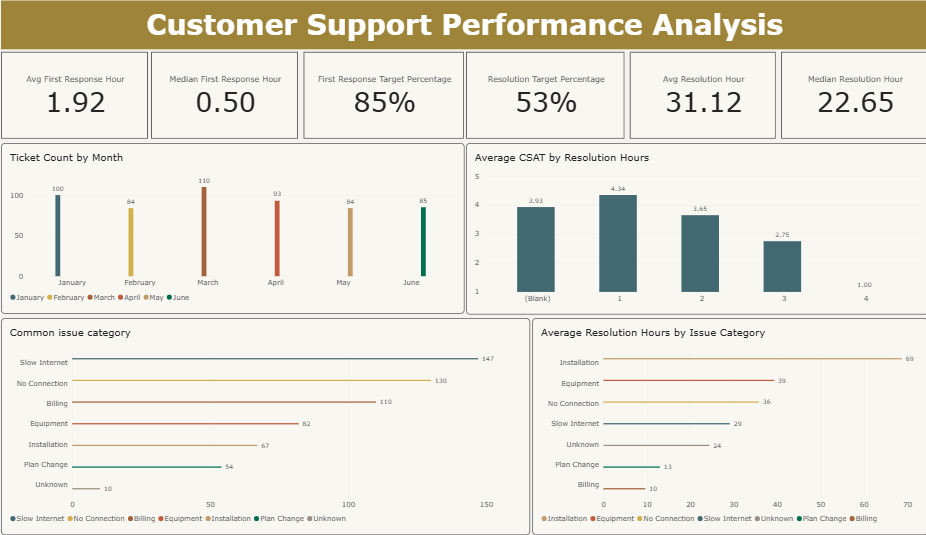

This screenshot's page, from the dashboard's own definition file:
{"tool":"powerbi","page":{"name":"Dashboard","canvas":[1920,1080],"ordinal":0},"visuals":[{"type":"textbox","box":[30,5,1855,97.5],"z":0},{"type":"clusteredColumnChart","title":"Ticket Count by Month","fields":{"Category":["linkup_support_tickets_raw.created_date.Variation.Date Hierarchy.Month","Tickets.region"],"Series":["linkup_support_tickets_raw.created_date.Variation.Date Hierarchy.Month"],"Y":["CountNonNull(linkup_support_tickets_raw.ticket_id)"]},"box":[30,291,927.1,341.4],"z":0,"group":"g1"},{"type":"group","id":"g1","title":"Group 1","box":[30,107.8,1855,967.5],"z":1000},{"type":"clusteredBarChart","title":"Common issue category","fields":{"Category":["linkup_support_tickets_raw.issue_category","Tickets.region"],"Series":["linkup_support_tickets_raw.issue_category"],"Y":["CountNonNull(linkup_support_tickets_raw.ticket_id)"]},"box":[30,641,1058,434.3],"z":1000,"group":"g1"},{"type":"cardVisual","title":"Test","fields":{"Data":["Avg(linkup_support_tickets_raw.first_response_hours)"]},"box":[30,108,294.3,174.4],"z":2000,"group":"g1"},{"type":"cardVisual","fields":{"Data":["Avg(linkup_support_tickets_raw.resolution_hours)"]},"box":[1288,108.3,292.9,174.4],"z":3000,"group":"g1"},{"type":"cardVisual","fields":{"Data":["Median(linkup_support_tickets_raw.first_response_hours)"]},"box":[330.9,107.8,294.3,174.4],"z":4000,"group":"g1"},{"type":"cardVisual","fields":{"Data":["Median(linkup_support_tickets_raw.resolution_hours)"]},"box":[1590.4,107.8,294.3,174.4],"z":5000,"group":"g1"},{"type":"cardVisual","fields":{"Data":["Tickets.First Response Target Percentage"]},"box":[635.7,108.2,321.4,174.3],"z":6000,"group":"g1"},{"type":"cardVisual","fields":{"Data":["Tickets.Resolution Target Percentage"]},"box":[960,108.2,317.1,174.3],"z":7000,"group":"g1"},{"type":"clusteredBarChart","title":"Average Resolution Hours by Issue Category","fields":{"Category":["Tickets.issue_category","Tickets.priority"],"Series":["Tickets.issue_category"],"Y":["Avg(Tickets.resolution_hours)"]},"box":[1092.9,641,791.4,434.3],"z":8000,"group":"g1"},{"type":"clusteredColumnChart","title":"Average CSAT by Resolution Hours","fields":{"Category":["Tickets.resolution_bucket","Tickets.priority"],"Y":["Avg(Tickets.csat_score)"]},"box":[960,291,925.7,342.9],"z":9000,"group":"g1"}]}

Visuals, with their boxes in screenshot pixels (x1, y1, x2, y2), scaled from the page's 1920x1080 canvas onto the 926x535 screenshot:
textbox: x1=14, y1=2, x2=909, y2=51
"Ticket Count by Month" clusteredColumnChart: x1=14, y1=144, x2=462, y2=313
"Group 1" group: x1=14, y1=53, x2=909, y2=533
"Common issue category" clusteredBarChart: x1=14, y1=318, x2=525, y2=533
"Test" cardVisual: x1=14, y1=54, x2=156, y2=140
cardVisual - Avg(linkup_support_tickets_raw.resolution_hours): x1=621, y1=54, x2=762, y2=140
cardVisual - Median(linkup_support_tickets_raw.first_response_hours): x1=160, y1=53, x2=302, y2=140
cardVisual - Median(linkup_support_tickets_raw.resolution_hours): x1=767, y1=53, x2=909, y2=140
cardVisual - Tickets.First Response Target Percentage: x1=307, y1=54, x2=462, y2=140
cardVisual - Tickets.Resolution Target Percentage: x1=463, y1=54, x2=616, y2=140
"Average Resolution Hours by Issue Category" clusteredBarChart: x1=527, y1=318, x2=909, y2=533
"Average CSAT by Resolution Hours" clusteredColumnChart: x1=463, y1=144, x2=909, y2=314
